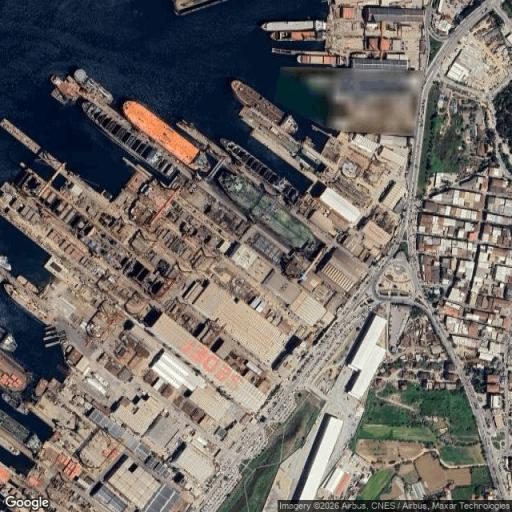ship: (218, 172, 318, 256), (82, 102, 178, 178), (123, 101, 207, 170), (220, 139, 299, 203), (231, 80, 297, 133), (3, 284, 56, 328), (51, 69, 113, 103), (0, 411, 41, 453), (74, 69, 113, 103), (0, 352, 28, 393), (0, 411, 29, 443), (261, 20, 326, 31), (270, 30, 325, 42), (297, 53, 344, 67), (2, 393, 28, 415), (18, 275, 39, 293), (0, 436, 19, 455), (24, 434, 41, 453), (0, 333, 17, 351), (35, 378, 49, 397), (0, 256, 11, 271)
